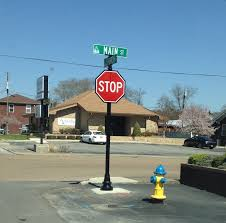stop_sign: (94, 70, 126, 104)
